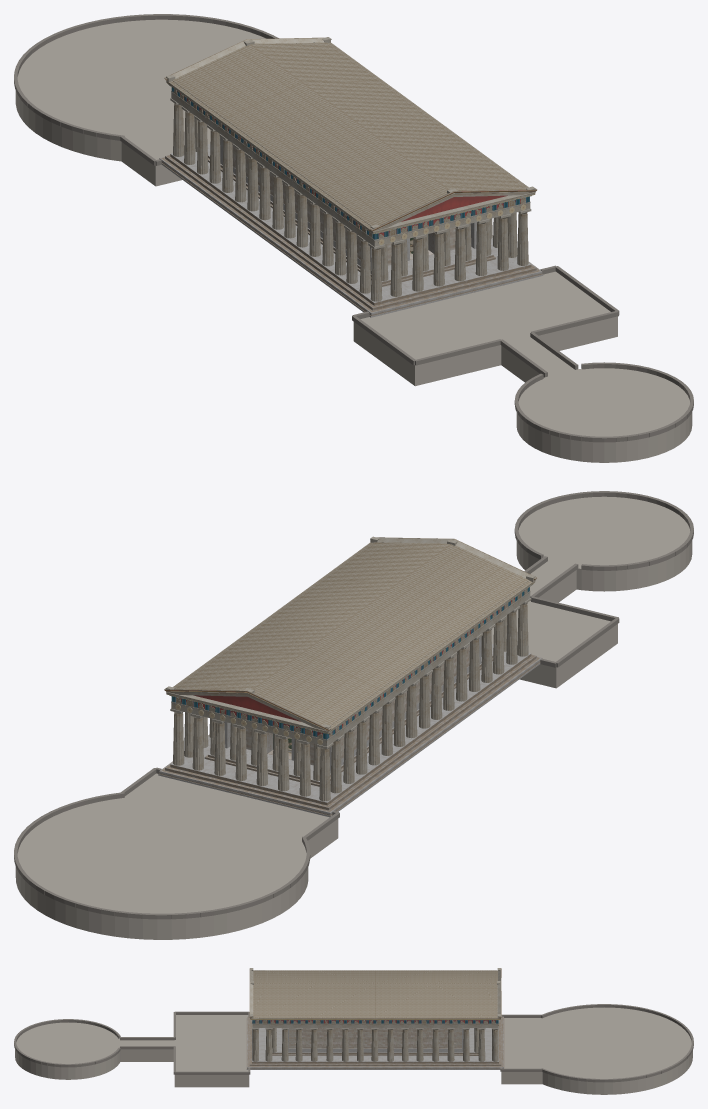
The model's file is TempleStage.fbx.
3 renders of one model, top to bottom at view 1: azimuth 30°, elevation 25°; view 2: azimuth 150°, elevation 25°; view 3: azimuth 270°, elevation 25°, orthographic. The views are drawn at different scales.
Visible parts, largest first — view 1: Temple, Ground, Curb; view 2: Temple, Ground, Curb; view 3: Temple, Ground, Curb.
Part boxes in pixels (left/top/right/bottom): Temple: left=159, top=37, right=543, bottom=317; Ground: left=15, top=19, right=692, bottom=462; Curb: left=14, top=14, right=693, bottom=442; Temple: left=158, top=536, right=542, bottom=817; Ground: left=15, top=496, right=692, bottom=939; Curb: left=14, top=491, right=693, bottom=919; Temple: left=246, top=968, right=504, bottom=1069; Ground: left=15, top=1007, right=692, bottom=1094; Curb: left=14, top=1004, right=693, bottom=1082.
Bounding box in the file's own units: 5060 × 2356 × 19160.
22 materials, 20 textured.
